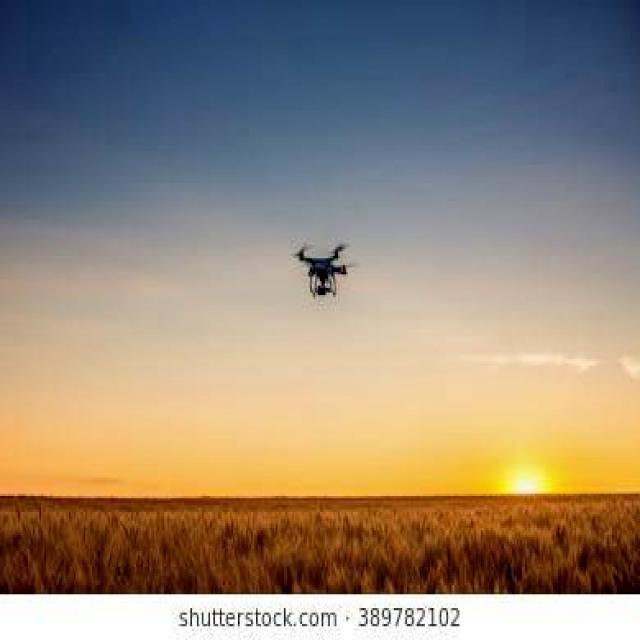drone: (297, 237, 353, 300)
